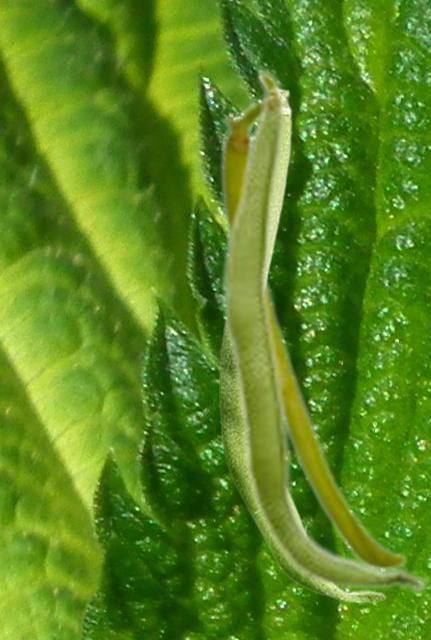french_bean: (218, 66, 429, 595), (219, 94, 407, 565), (219, 87, 386, 603)
